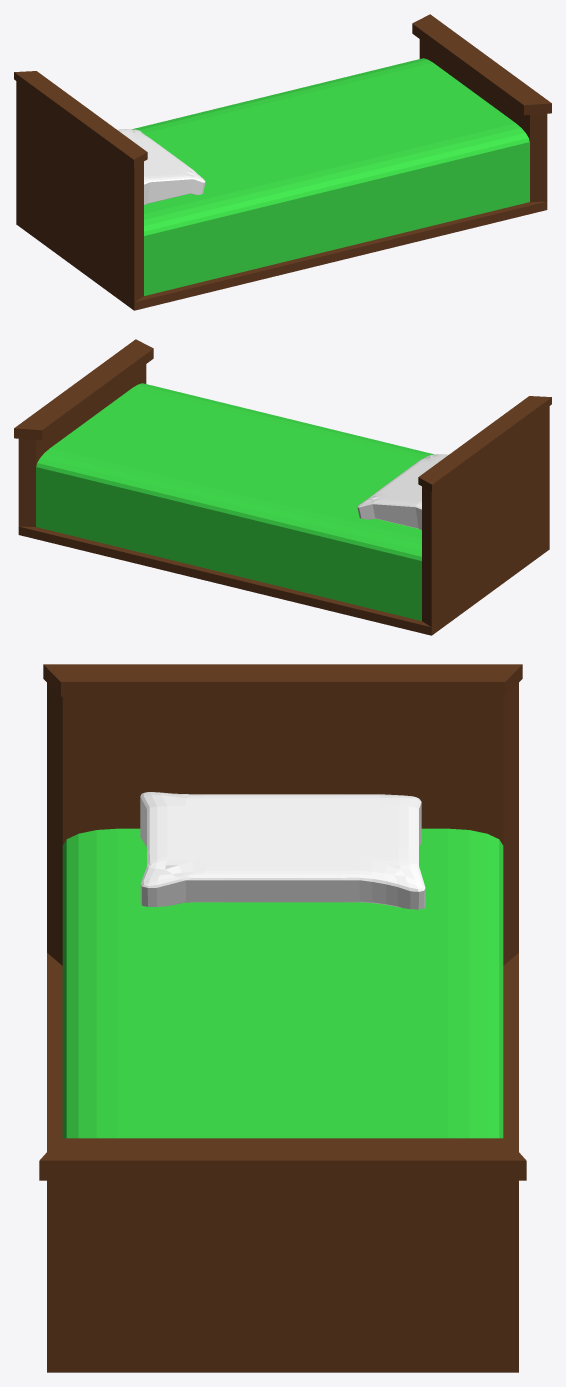
File: Bed.fbx
3 renders of one model, top to bottom at view 1: azimuth 30°, elevation 25°; view 2: azimuth 150°, elevation 25°; view 3: azimuth 270°, elevation 25°, orthographic. The views are drawn at different scales.
Parts seen in each view (by area): view 1: Cube, Cube.001; view 2: Cube, Cube.001; view 3: Cube, Cube.001.
Boxes of the visible parts, x1=… form: Cube: x1=14, y1=14, x2=551, y2=310; Cube.001: x1=117, y1=129, x2=205, y2=204; Cube: x1=14, y1=339, x2=551, y2=635; Cube.001: x1=357, y1=454, x2=448, y2=529; Cube: x1=39, y1=664, x2=526, y2=1372; Cube.001: x1=140, y1=792, x2=425, y2=909.
Size of the model in its own units: 1272 by 443 by 643.
